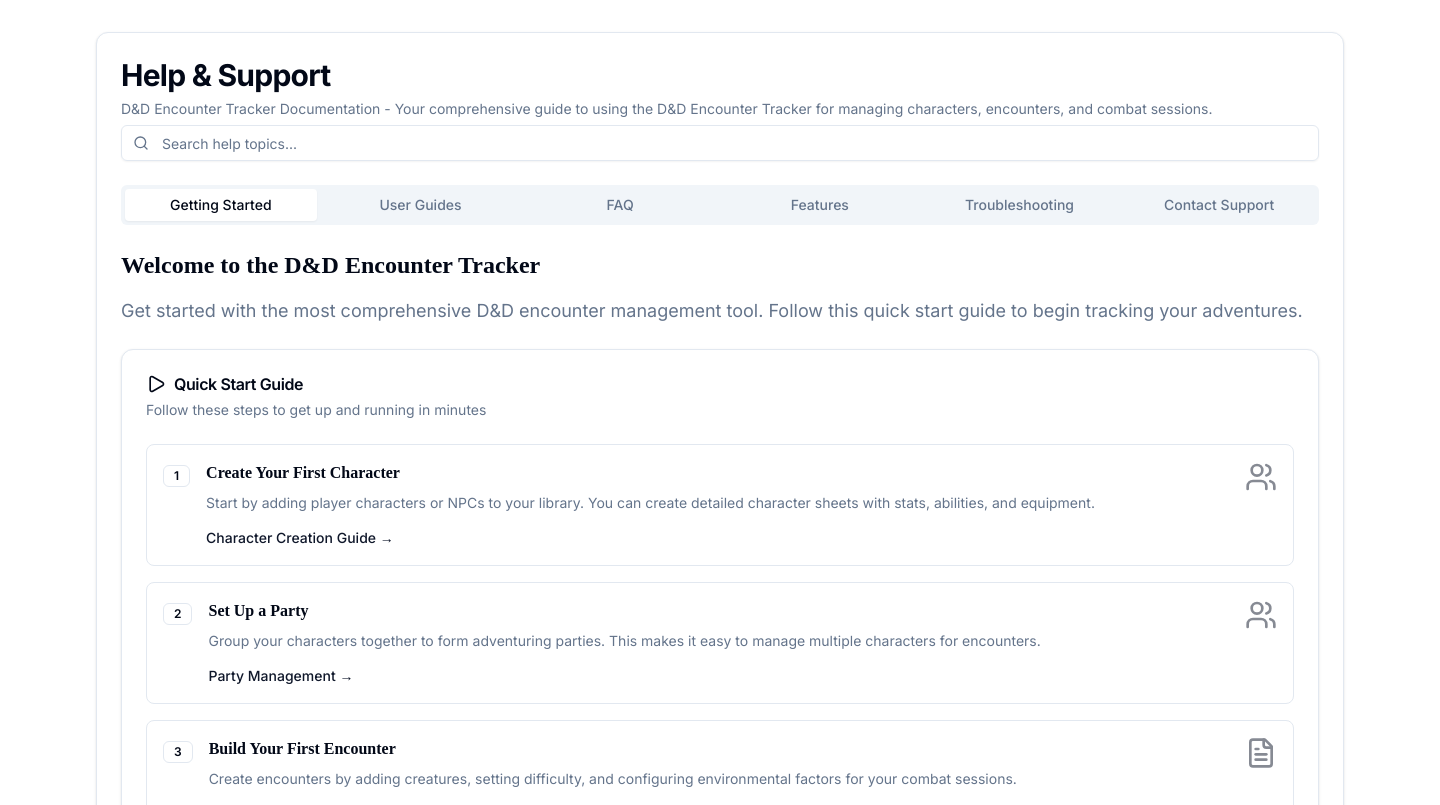
Test: HelpPage Component › User Guides Section › displays user guides when tab is selected
Click the tab "User Guides": (421, 205) [325,189,516,221]
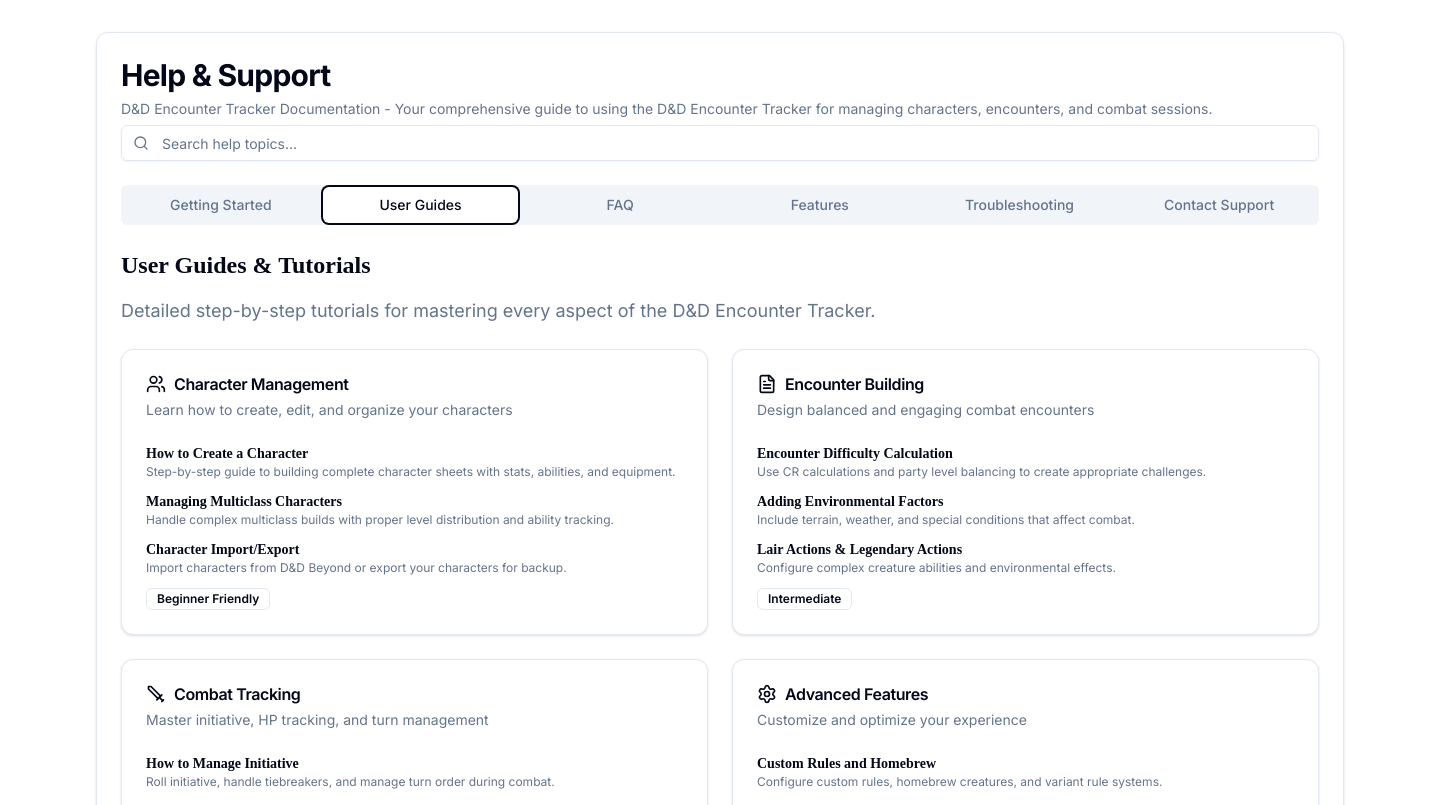
Now the heading "User Guides & Tutorials" is shown, box [121,252,371,278]
Now the text "Character Management" is shown, box [146,374,348,394]
Now the text "Encounter Building" is shown, box [757,374,924,394]
